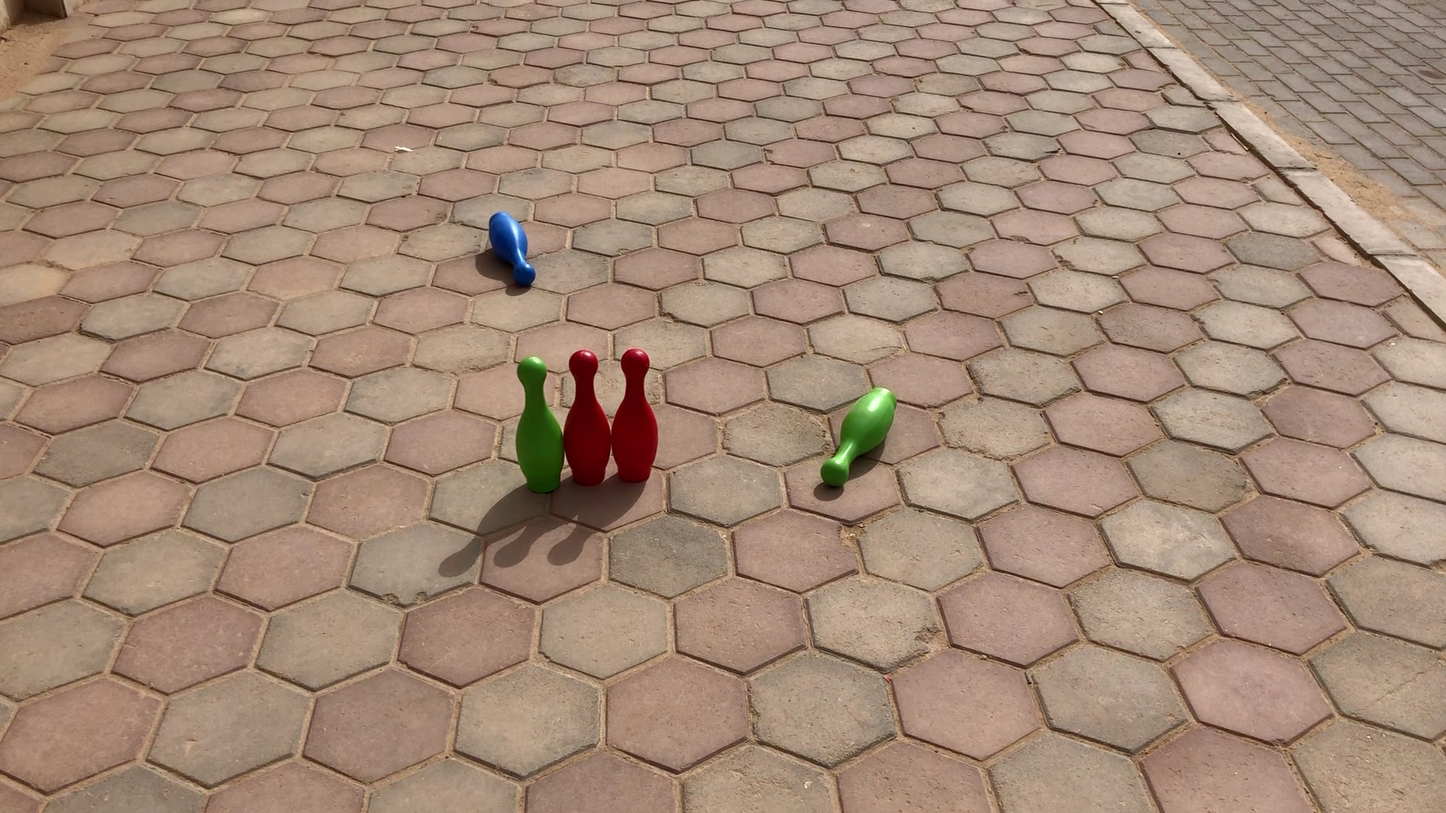bowling-pin: (822, 389, 893, 484), (520, 355, 566, 492), (566, 350, 611, 485), (613, 349, 658, 482), (490, 212, 537, 288)
